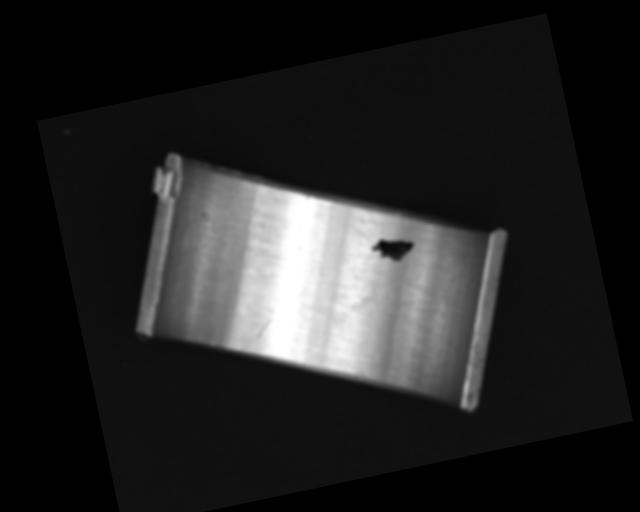blot: (343, 270, 404, 312), (368, 230, 418, 267)
bruise: (357, 370, 366, 380), (303, 193, 311, 202)
nick: (243, 317, 278, 355)
